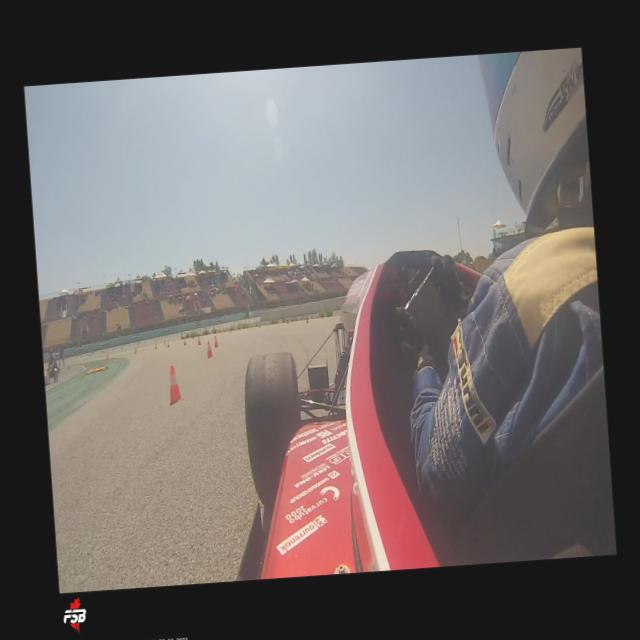orange_cone: (165, 364, 185, 404), (205, 340, 213, 358), (213, 335, 218, 347), (197, 336, 201, 345), (154, 343, 158, 349), (84, 362, 87, 368), (183, 339, 186, 345), (167, 341, 170, 346), (106, 355, 108, 360), (134, 348, 136, 353)
yellow_cone: (108, 354, 110, 360), (163, 340, 165, 344)
